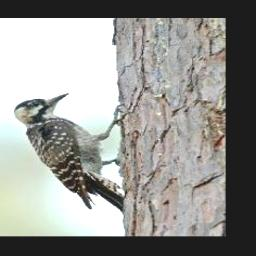Woodpecker: (10, 92, 136, 216)
